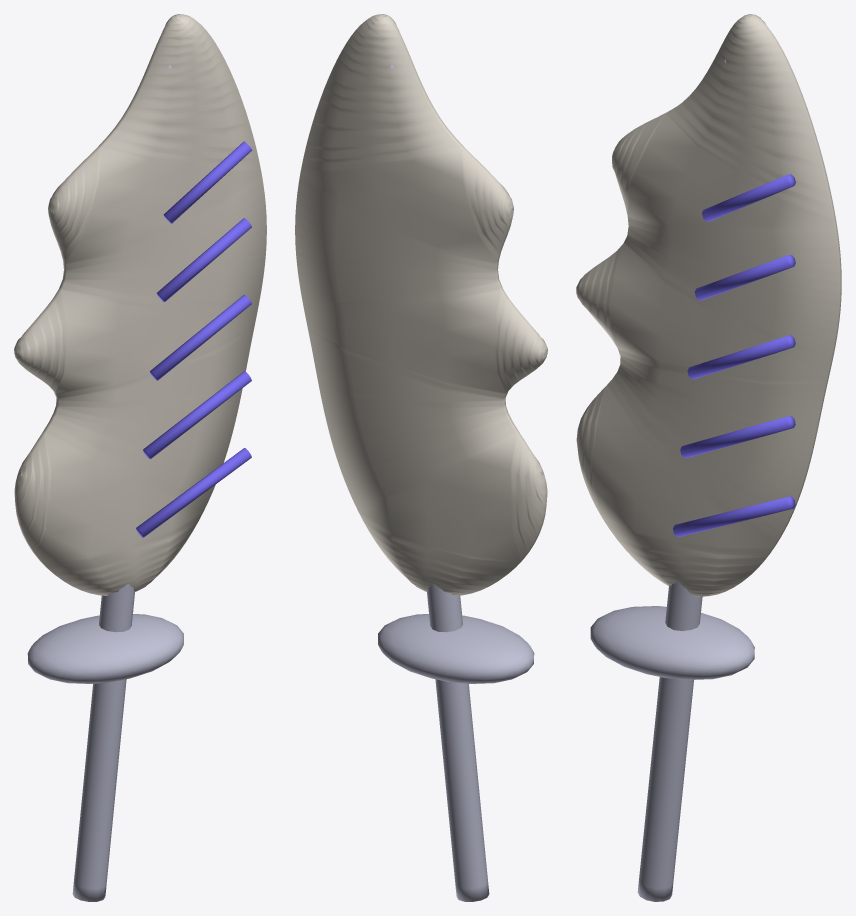
Rendered from squire_quill.glb.
3 views of the same model, side by side, from view 1: azimuth 30°, elevation 25°; view 2: azimuth 150°, elevation 25°; view 3: azimuth 330°, elevation 25° (orthographic). The views are drawn at different scales.
Parts seen in each view (by area): view 1: squire_quill__feather, squire_quill__shaft, squire_quill__guard, squire_quill__vane_0, squire_quill__vane_1, squire_quill__vane_2, squire_quill__vane_3, squire_quill__vane_4; view 2: squire_quill__feather, squire_quill__shaft, squire_quill__guard; view 3: squire_quill__feather, squire_quill__shaft, squire_quill__guard, squire_quill__vane_0, squire_quill__vane_1, squire_quill__vane_2, squire_quill__vane_3, squire_quill__vane_4.
Boxes of the visible parts, box(x1,y1,x2,y2) form: squire_quill__feather: box(14, 14, 266, 595); squire_quill__shaft: box(72, 65, 171, 901); squire_quill__guard: box(27, 614, 183, 683); squire_quill__vane_0: box(136, 448, 251, 537); squire_quill__vane_1: box(143, 371, 251, 458); squire_quill__vane_2: box(150, 294, 251, 380); squire_quill__vane_3: box(156, 218, 251, 301); squire_quill__vane_4: box(163, 141, 252, 223); squire_quill__feather: box(295, 14, 547, 595); squire_quill__shaft: box(390, 65, 489, 901); squire_quill__guard: box(378, 614, 534, 683); squire_quill__feather: box(576, 14, 841, 596); squire_quill__shaft: box(637, 59, 725, 901); squire_quill__guard: box(590, 606, 754, 679); squire_quill__vane_0: box(673, 496, 795, 536); squire_quill__vane_1: box(680, 416, 795, 457); squire_quill__vane_2: box(687, 335, 795, 379); squire_quill__vane_3: box(694, 255, 795, 300); squire_quill__vane_4: box(702, 174, 795, 221).
Bounding box in the file's own units: 0.3669 × 1.21 × 0.148.
